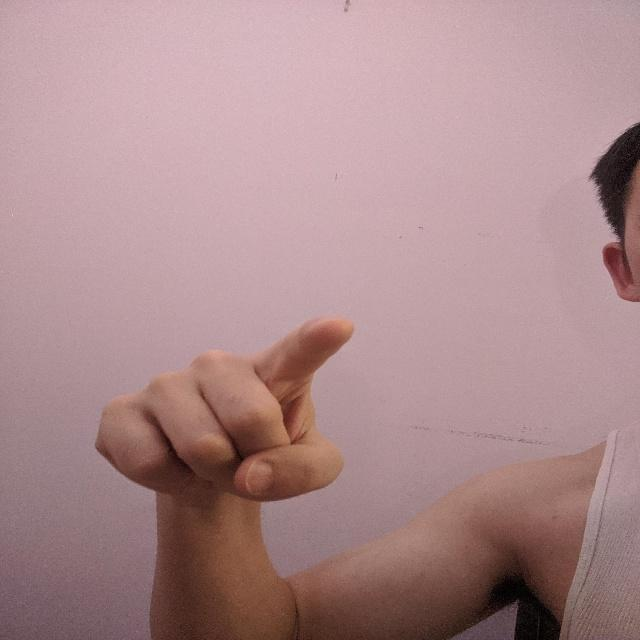Z: (89, 312, 359, 507)
